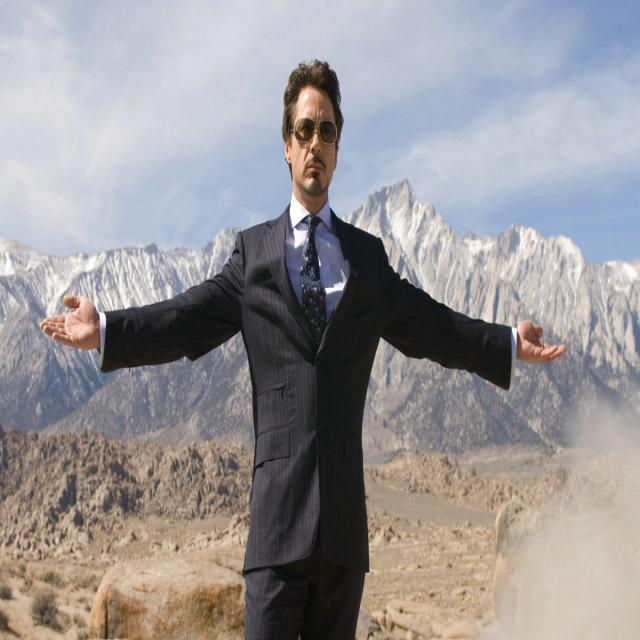human: (40, 51, 571, 640)
